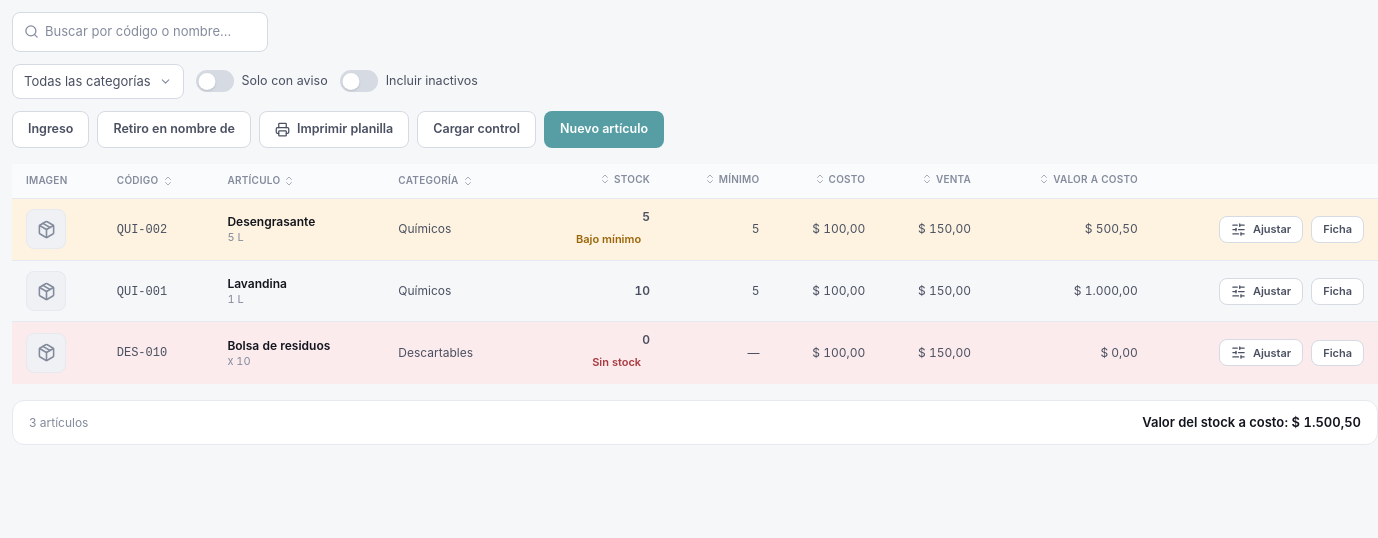
StockTab: tabla (IS-05, IS-24) › por defecto oculta los inactivos; «Incluir inactivos» los muestra sin pintarlos de rojo
Expected: the text "Producto discontinuado" is not shown
Click the switch named "Incluir inactivos" next to "Incluir inactivos".
click(359, 81)  # box [340,70,378,92]
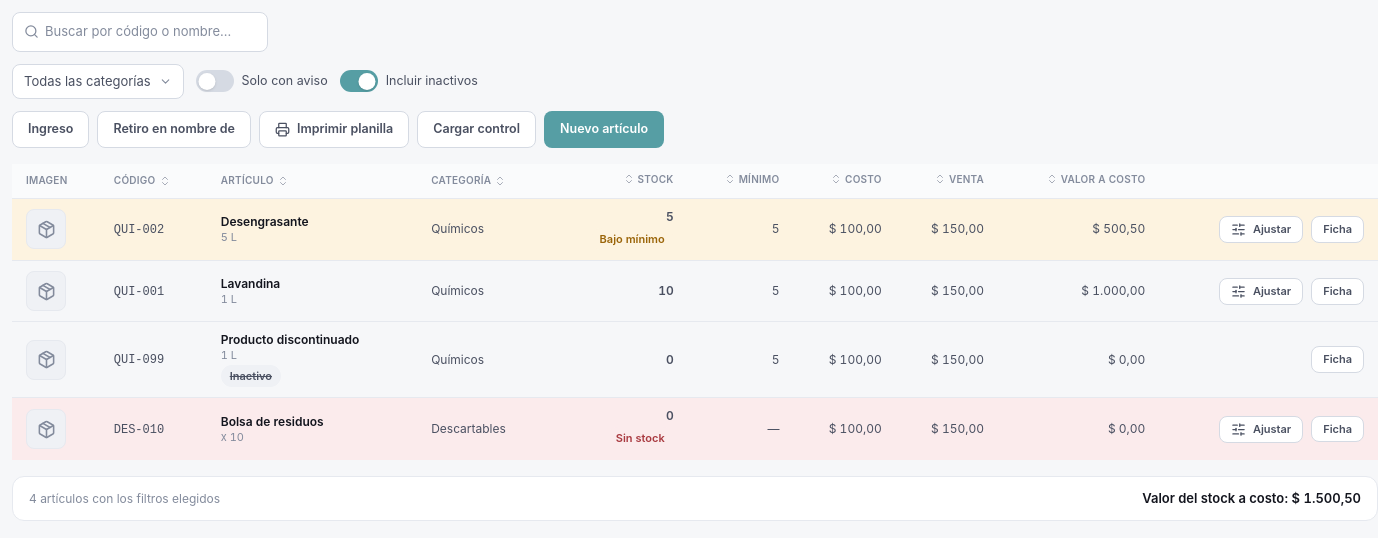
Expected: the text "Inactivo" is shown, [221,365,281,387]
